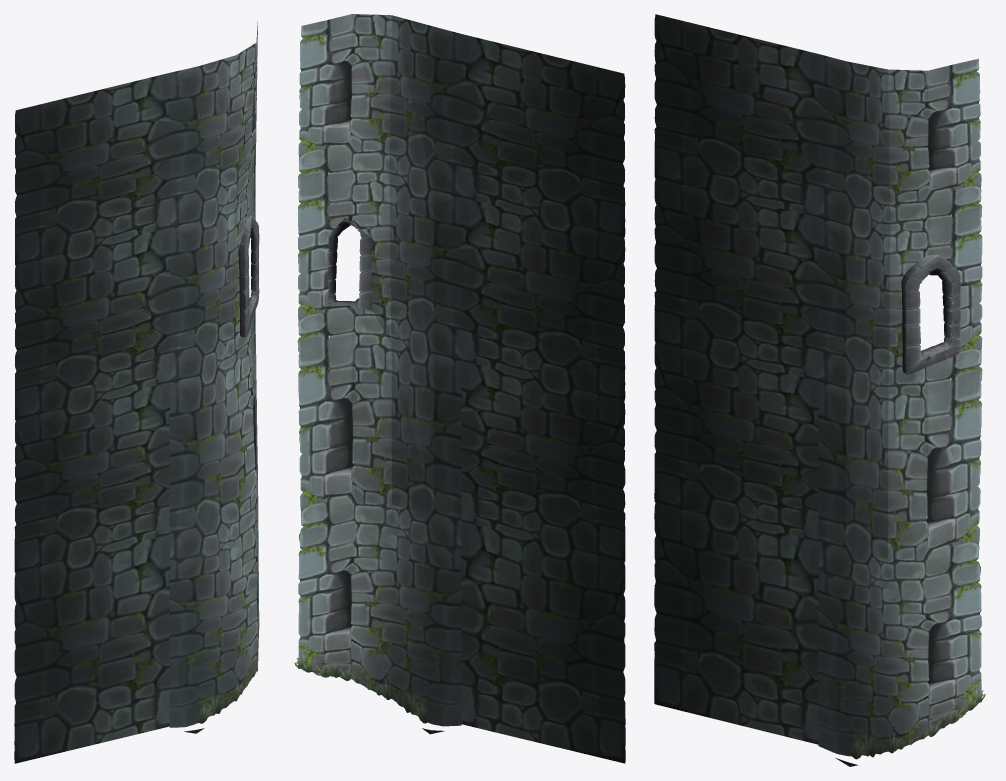
Rendered from Tower Right Side.FBX.
3 renders of one model, left to right at view 1: azimuth 30°, elevation 25°; view 2: azimuth 150°, elevation 25°; view 3: azimuth 330°, elevation 25°, orthographic. The views are drawn at different scales.
Visible parts, largest first — view 1: Tower Right Side; view 2: Tower Right Side; view 3: Tower Right Side.
Boxes of the visible parts, x1=… form: Tower Right Side: x1=14, y1=22, x2=259, y2=763; Tower Right Side: x1=294, y1=14, x2=625, y2=763; Tower Right Side: x1=654, y1=14, x2=985, y2=766.
Bounding box in the file's own units: 1153 × 281 × 2635.
